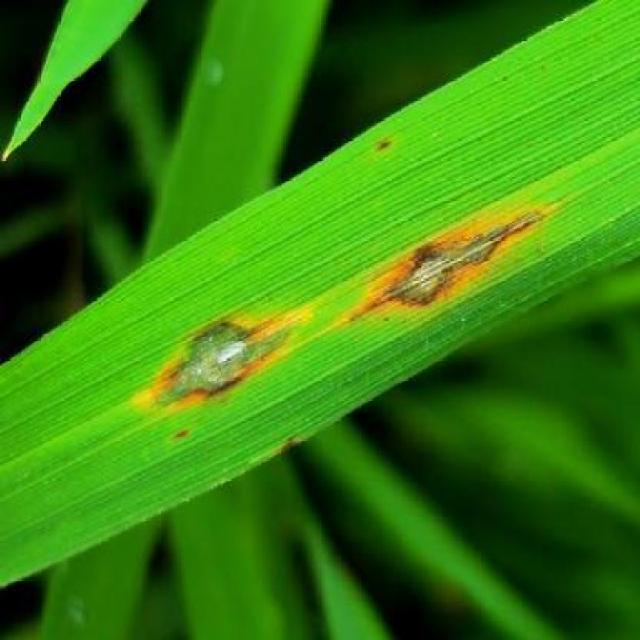Bacterial_Leaf_Blight: (366, 193, 560, 312), (146, 295, 305, 382)
